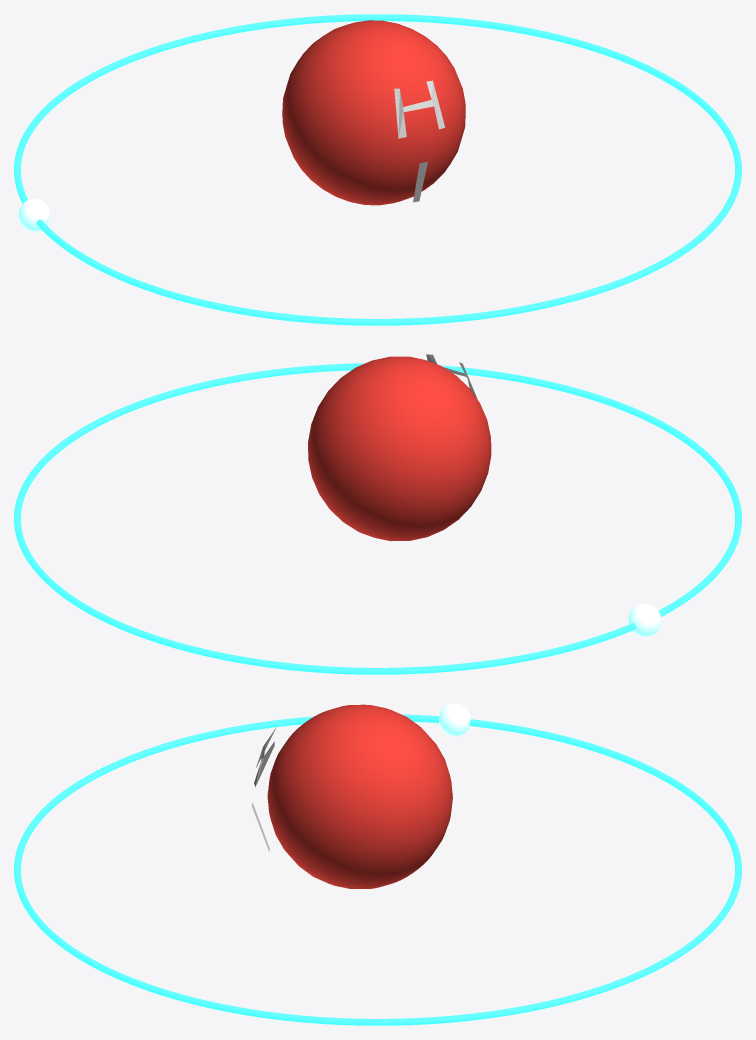
Rendered from hydrogen 1.fbx.
The picture shows the model from 3 angles, top to bottom: view 1: azimuth 30°, elevation 25°; view 2: azimuth 150°, elevation 25°; view 3: azimuth 270°, elevation 25°; orthographic projection.
Visible parts, largest first — view 1: Sphere.001, BézierCircle, Text, Sphere.062; view 2: Sphere.001, BézierCircle, Sphere.062; view 3: Sphere.001, BézierCircle, Sphere.062.
Part boxes in pixels (x1,y1,x2,y2): Sphere.001: (282,20,465,205); BézierCircle: (14,14,741,325); Text: (394,80,444,202); Sphere.062: (18,198,50,231); Sphere.001: (308,356,491,541); BézierCircle: (14,363,741,674); Sphere.062: (628,604,661,636); Sphere.001: (267,704,452,888); BézierCircle: (14,714,741,1025); Sphere.062: (439,703,470,736).
Size of the model in its own units: 93.86 by 23.76 by 93.24.
